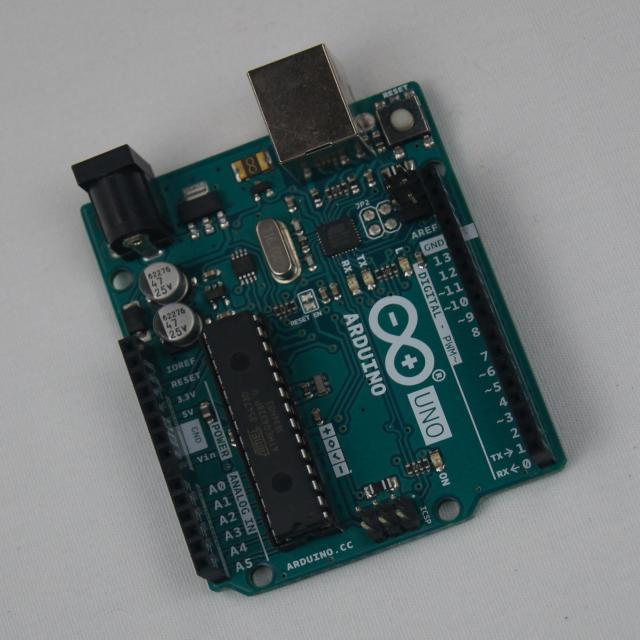Arduino Uno -Green-: (73, 46, 565, 594)
